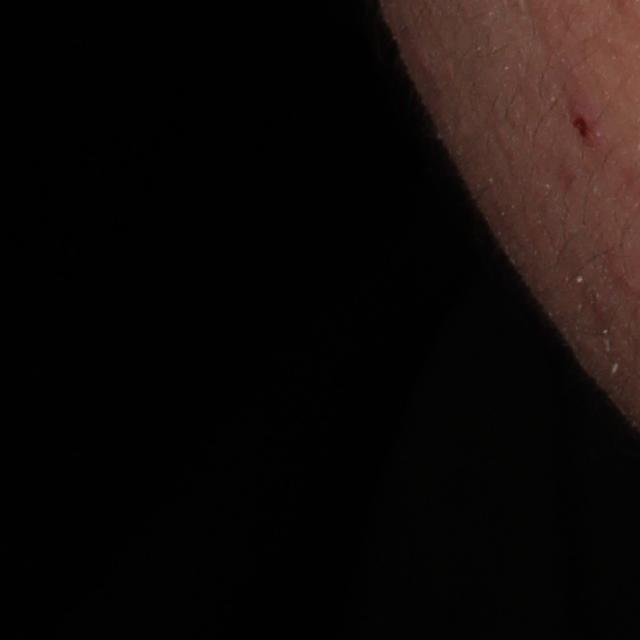papule: (562, 95, 611, 155)
